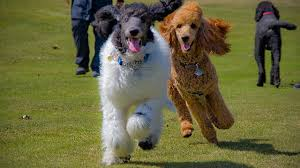Poodle: (163, 5, 252, 153), (85, 1, 164, 166), (245, 2, 300, 94)
